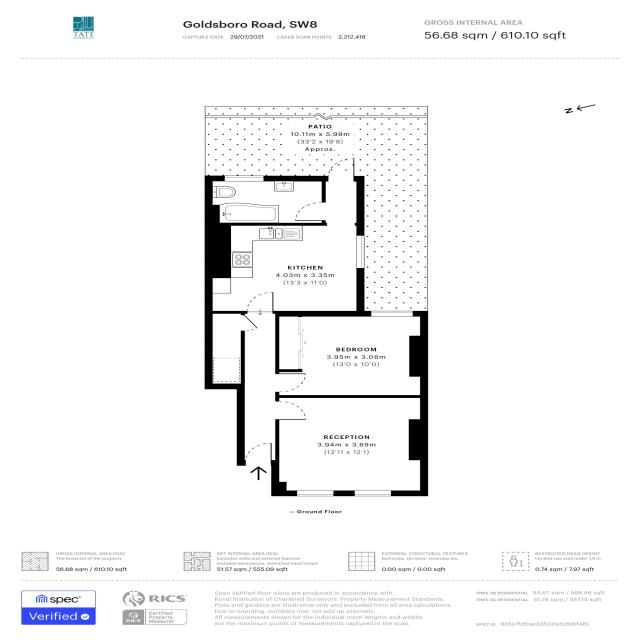DOOR: (275, 399, 309, 422), (243, 440, 273, 466), (275, 372, 309, 394), (245, 290, 276, 314), (326, 156, 355, 181), (292, 201, 326, 222)
ROOM: (204, 154, 365, 317), (271, 395, 428, 496), (274, 311, 428, 398)
WINDOW: (353, 233, 367, 270), (369, 308, 415, 318), (294, 488, 335, 498), (353, 489, 393, 498), (223, 174, 266, 182)
